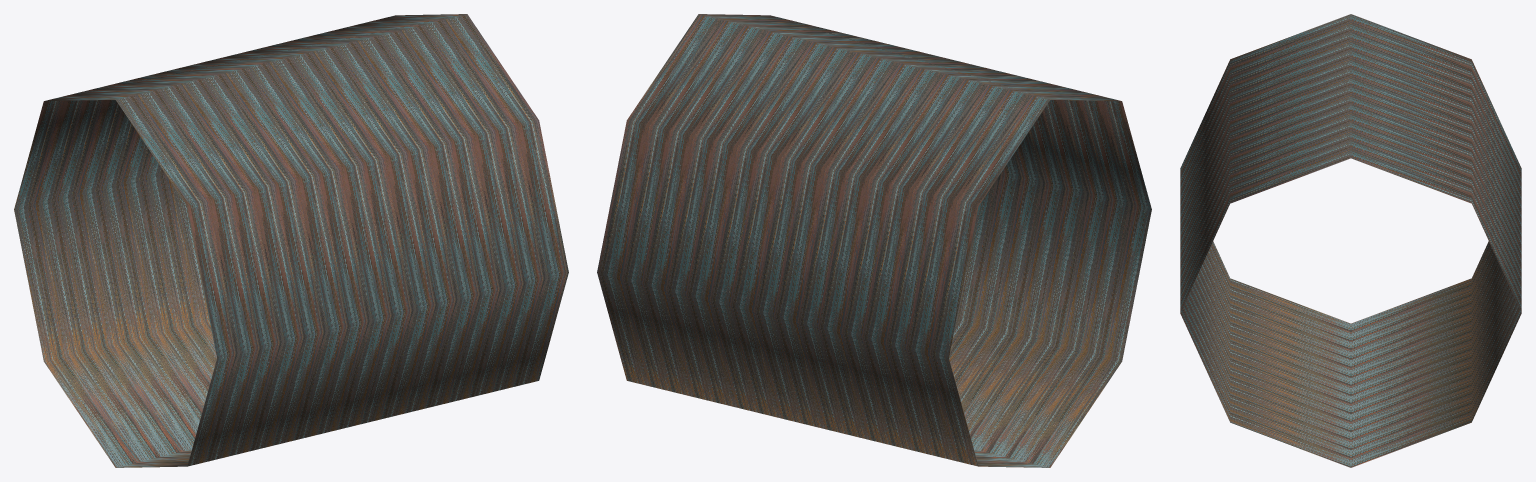
The model's file is pipe8-lowpoly.obj.
The picture shows the model from 3 angles, left to right: view 1: azimuth 30°, elevation 25°; view 2: azimuth 150°, elevation 25°; view 3: azimuth 270°, elevation 25°; orthographic projection. The views are drawn at different scales.
Size of the model in its own units: 2 by 2 by 2.
Materials: 1 (1 with a texture image).
